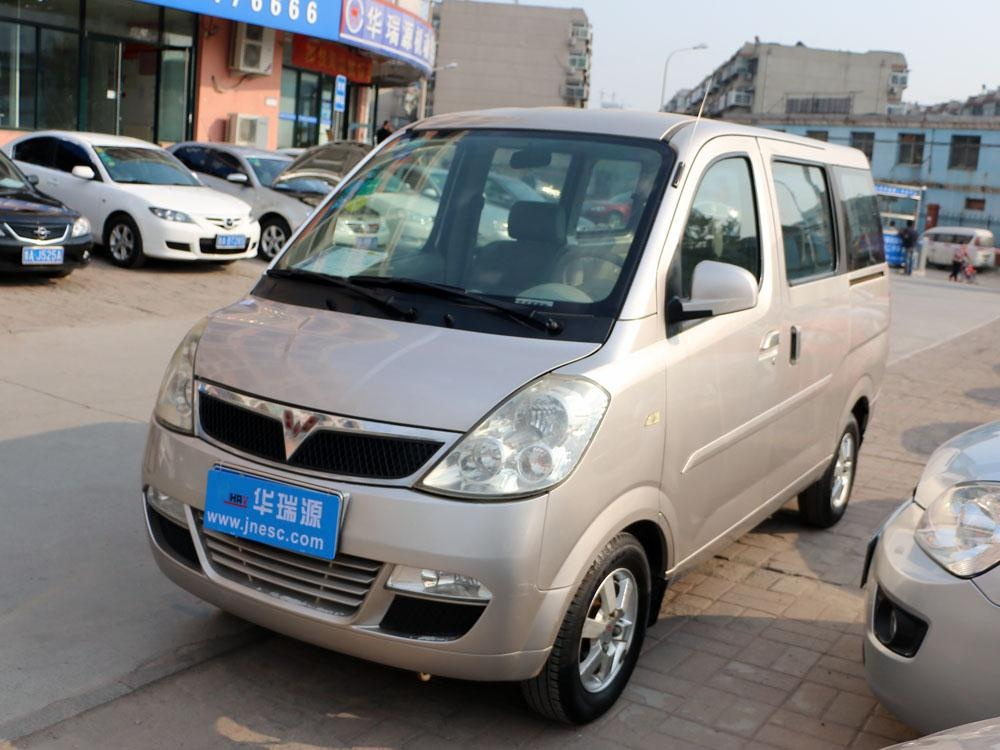family sedan: (13, 121, 264, 271)
minibus: (155, 101, 904, 703)
